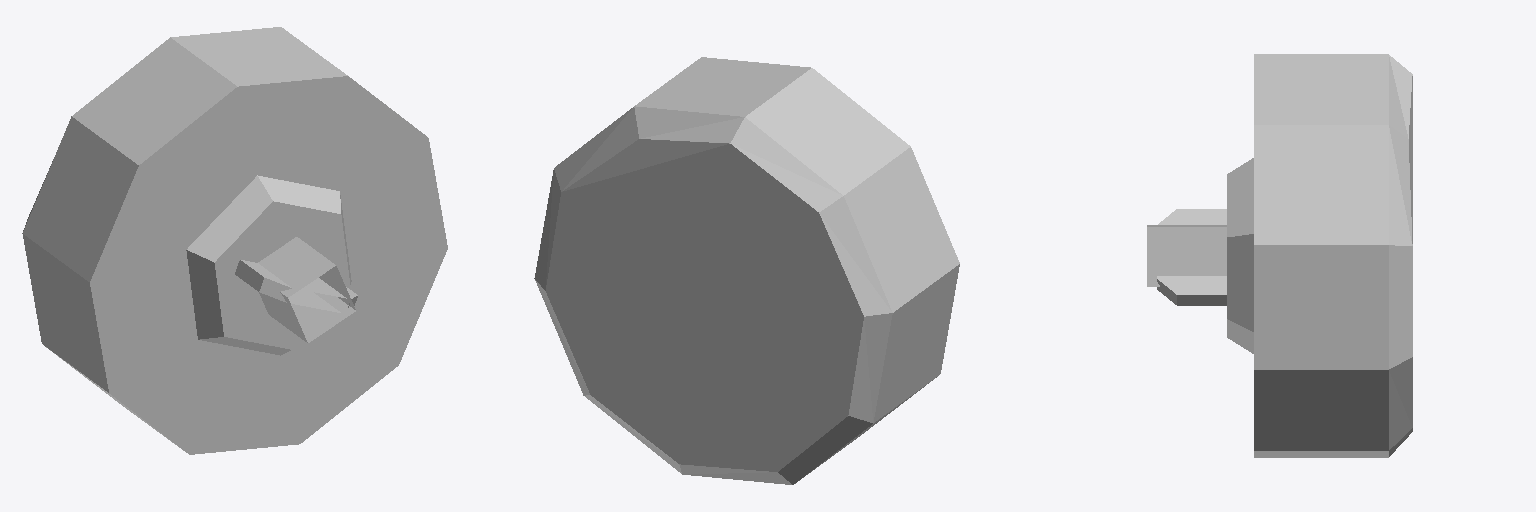
Rendered from wheel114.obj.
3 renders of one model, left to right at view 1: azimuth 30°, elevation 25°; view 2: azimuth 150°, elevation 25°; view 3: azimuth 270°, elevation 25°, orthographic.
Parts seen in each view (by area): view 1: wheel_low_textures; view 2: wheel_low_textures; view 3: wheel_low_textures.
Part boxes in pixels (bbox=[...]): wheel_low_textures: bbox=[22, 27, 447, 454]; wheel_low_textures: bbox=[534, 57, 959, 484]; wheel_low_textures: bbox=[1147, 54, 1412, 457].
Bounding box in the file's own units: 1.55 × 1.54 × 0.9907.